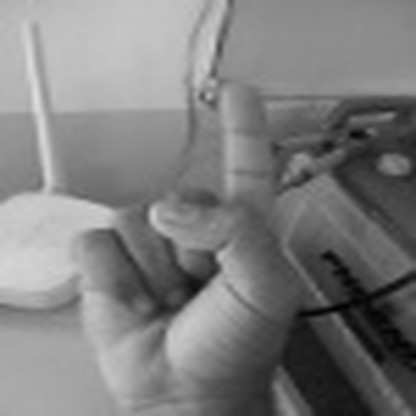d: (71, 77, 284, 416)
